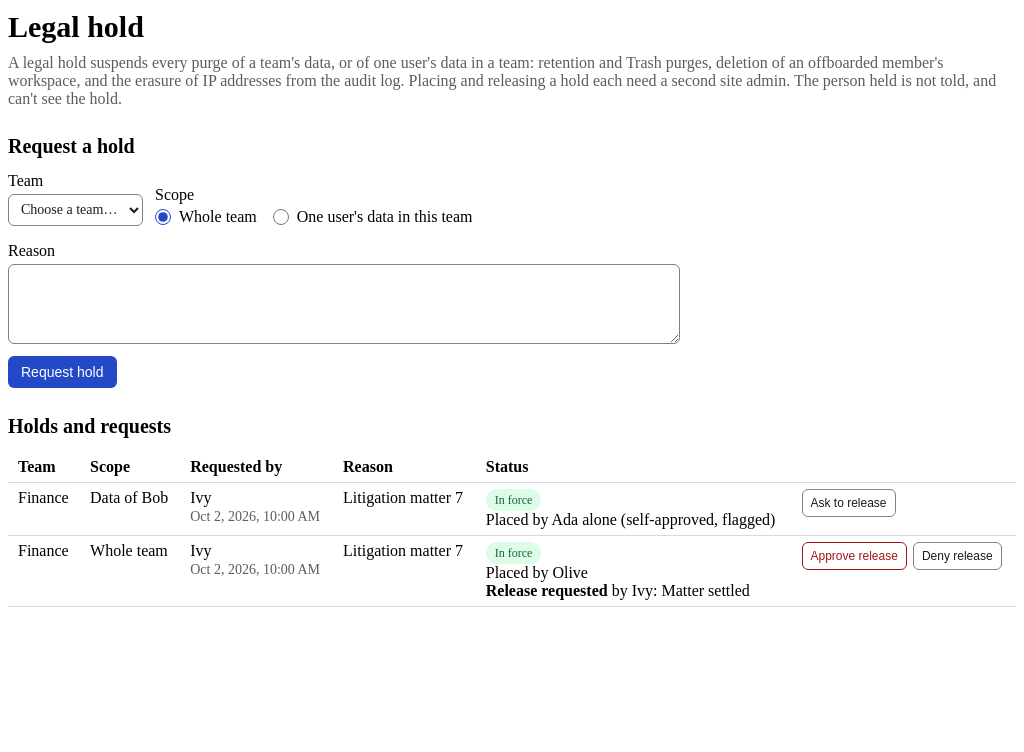
site legal hold page › asks to release with a reason, and approves another admin's release
Check: the text "Matter settled" is shown, box [661, 582, 750, 598]
Click the button "Ask to release". click: (848, 502)
box: [802, 488, 896, 516]
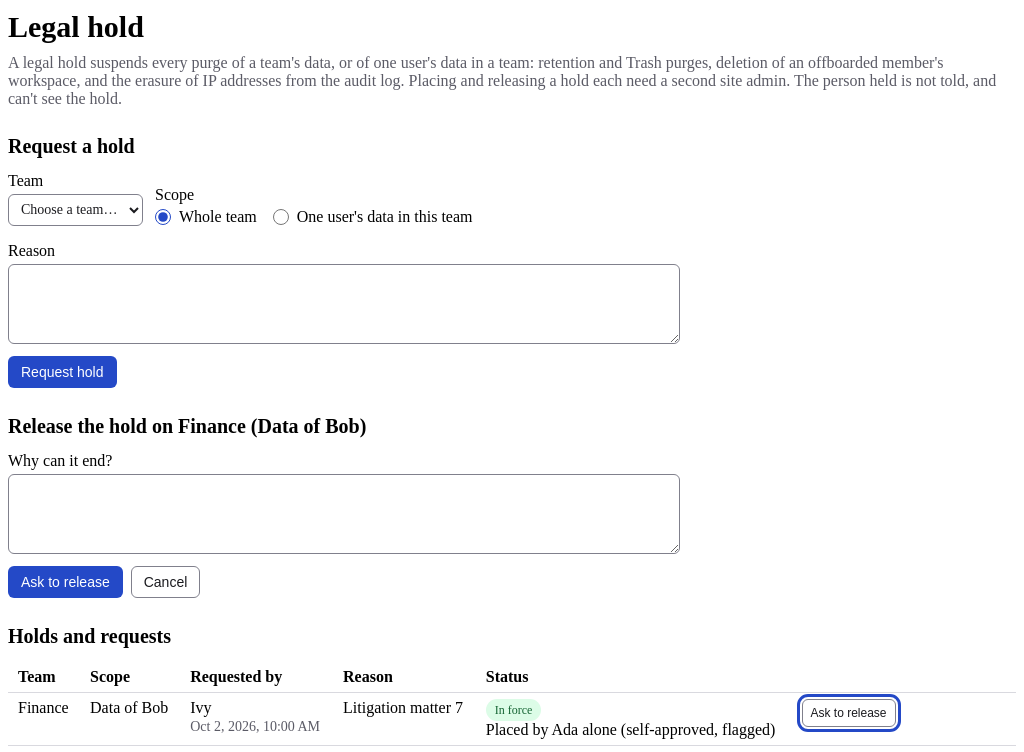
Type "The case was closed" into the text box labelled "Why can it end?". click: (344, 514)
box: [8, 474, 680, 554]
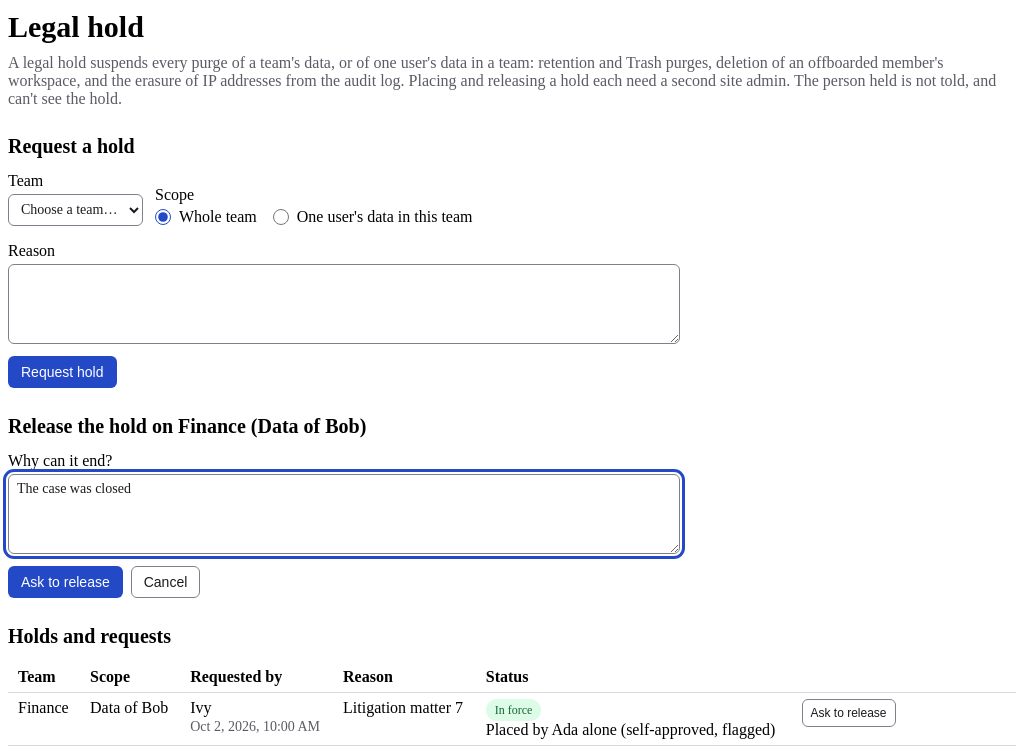
Click the button "Ask to release" below "Why can it end?". click: (65, 582)
box: [8, 566, 123, 598]
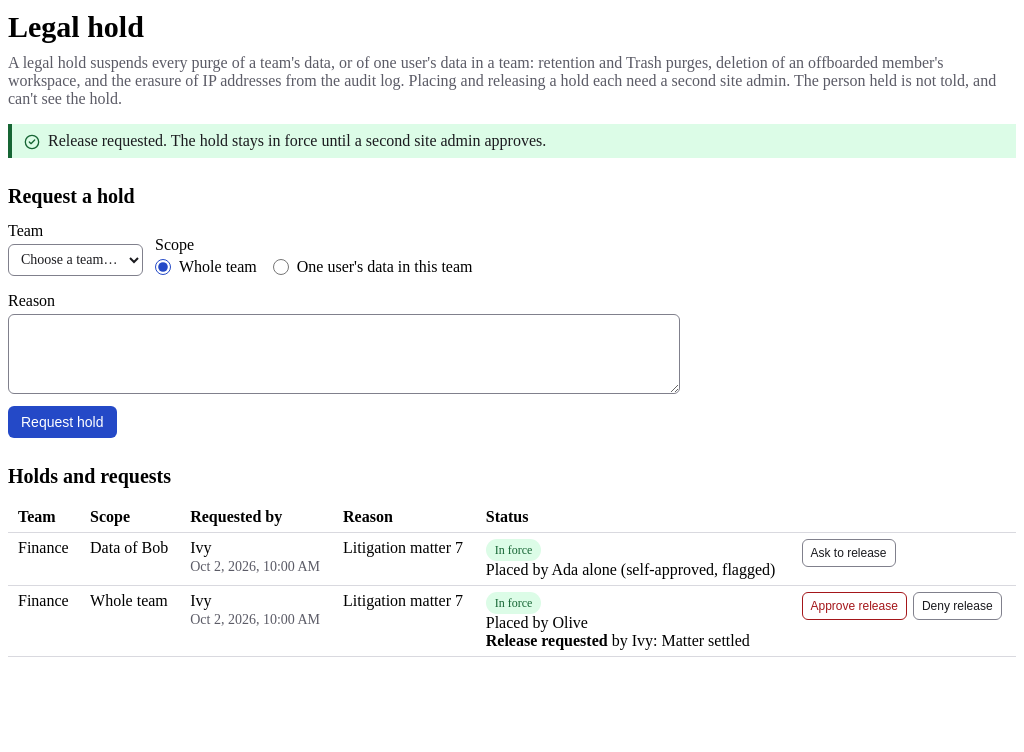
Check: the text "stays in force until a second site admin approves" is shown, box [48, 132, 546, 148]
Click the button "Approve release". click: (854, 606)
box: [802, 592, 907, 620]
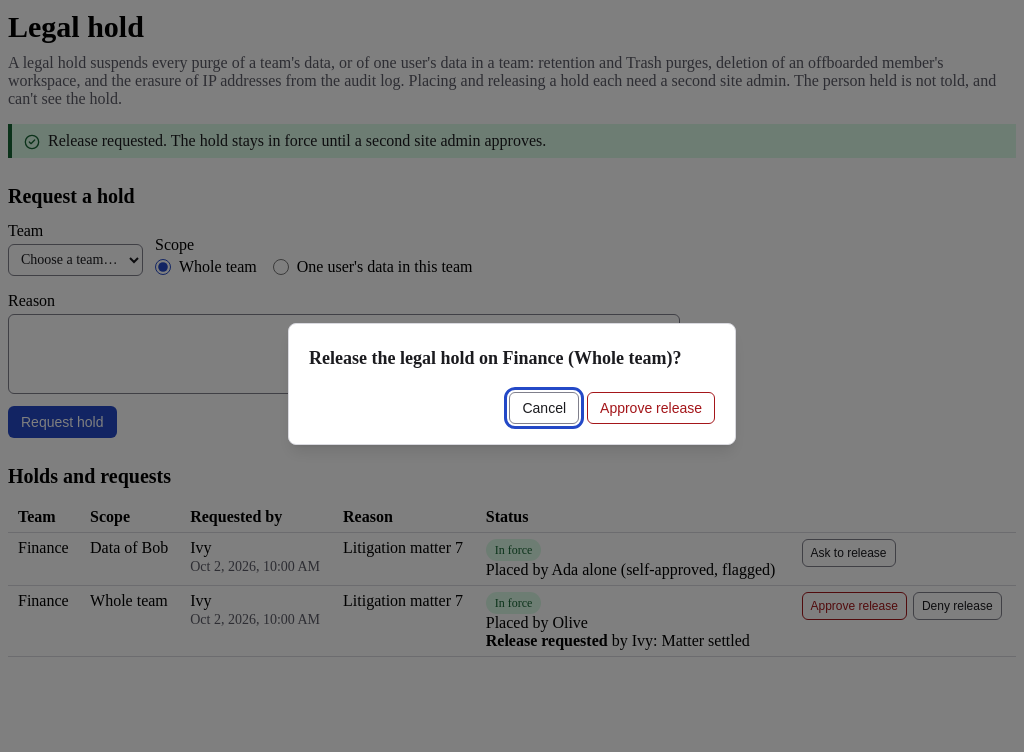
Click the button "Approve release". click: (651, 408)
box: [587, 392, 715, 424]
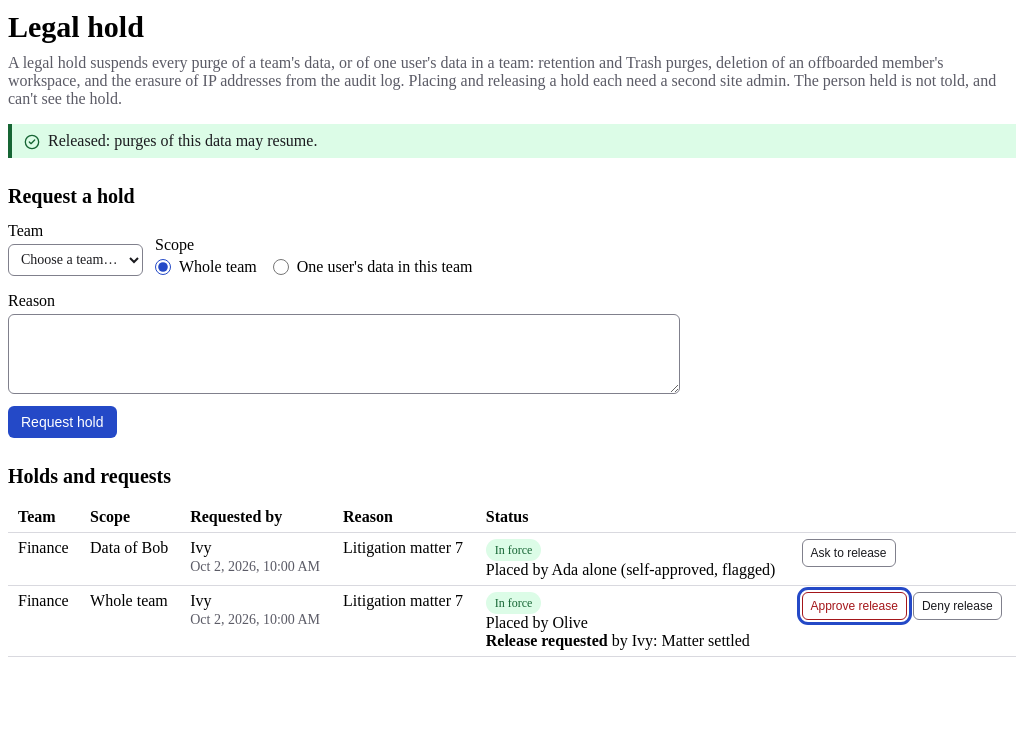
Check: the text "Released: purges of this data may resume." is shown, box [48, 132, 317, 148]
